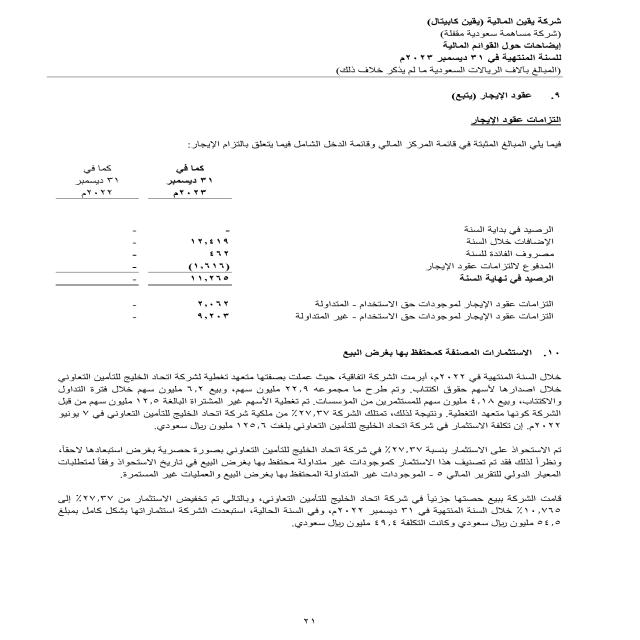notes: (414, 40, 567, 52)
table: (38, 154, 252, 335)
